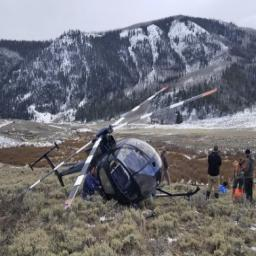helicopter: (37, 86, 203, 199)
